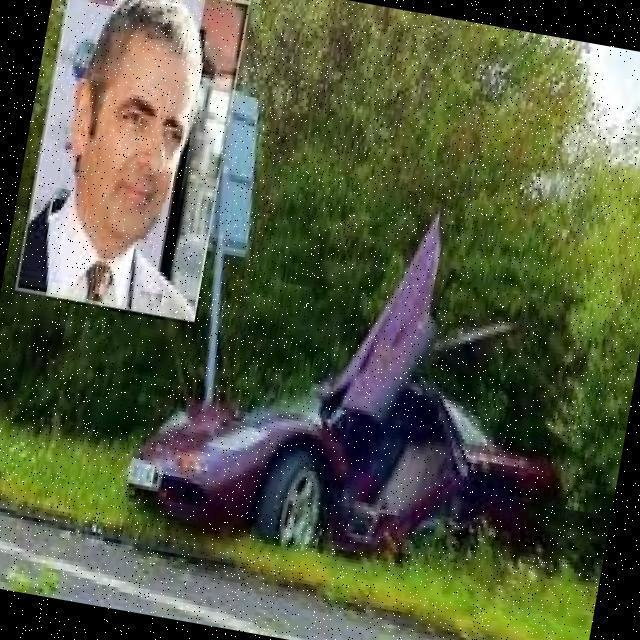accident: (112, 274, 604, 612)
